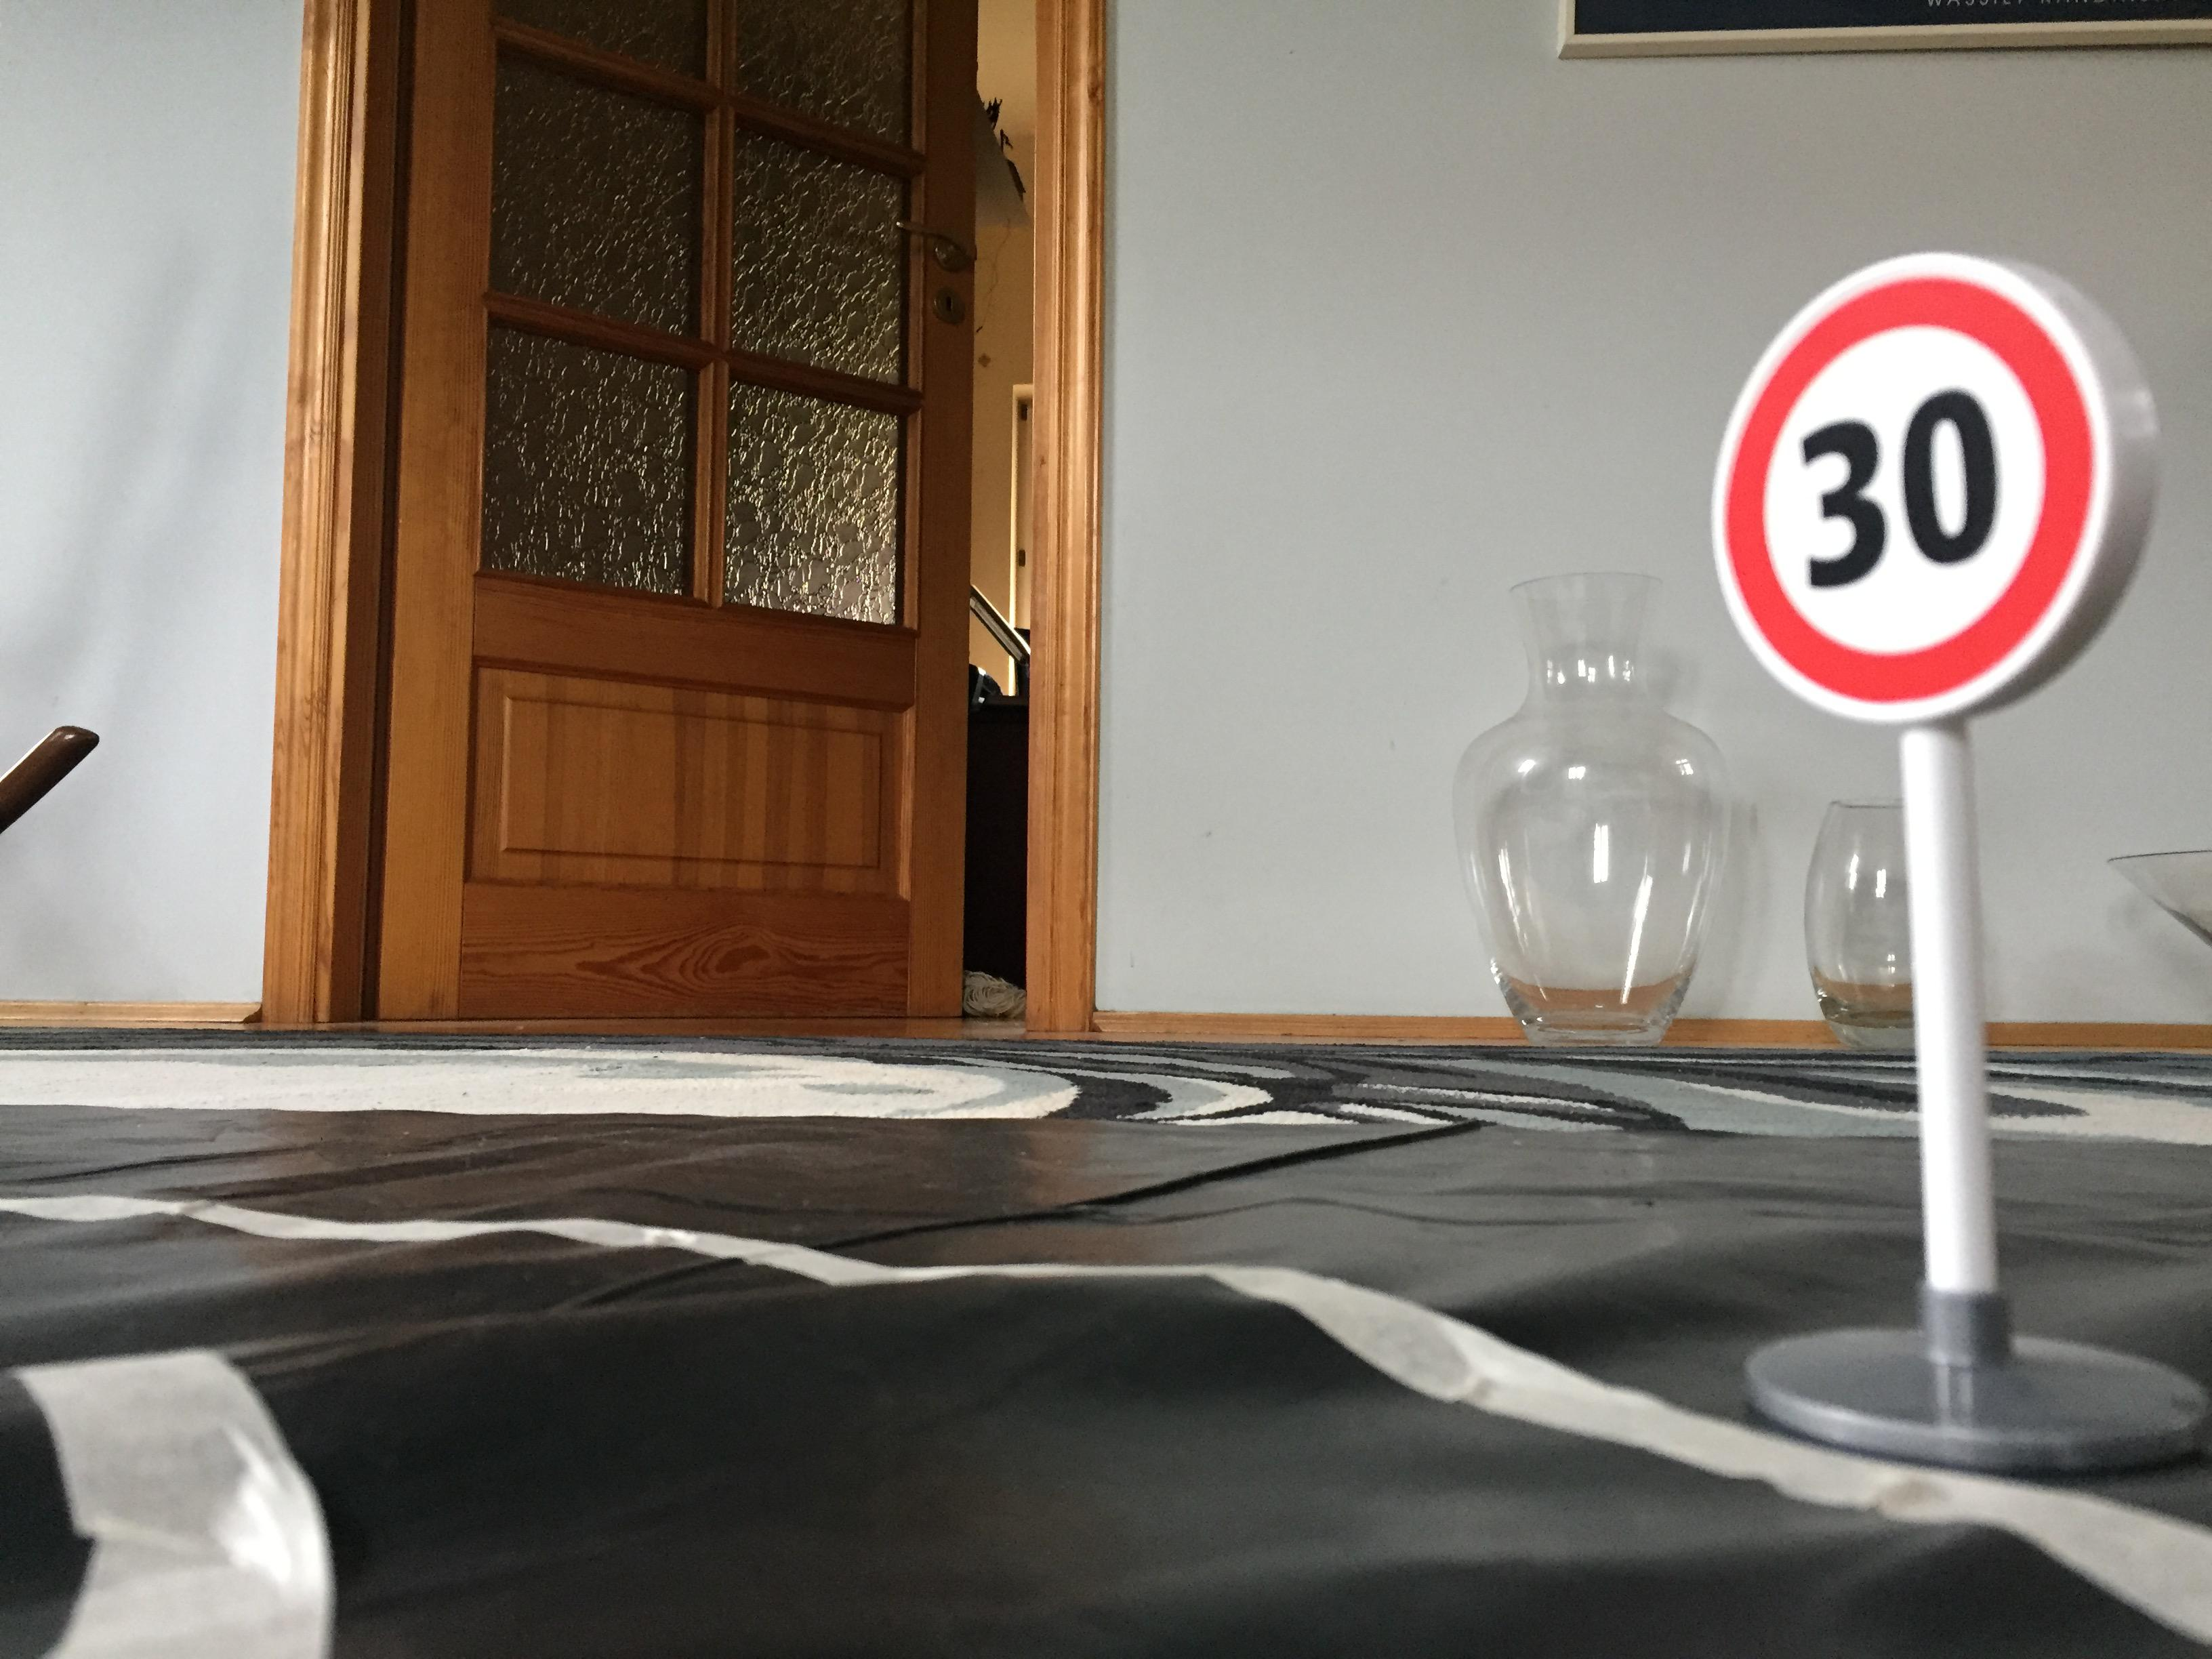speed: (1688, 237, 2179, 756)
